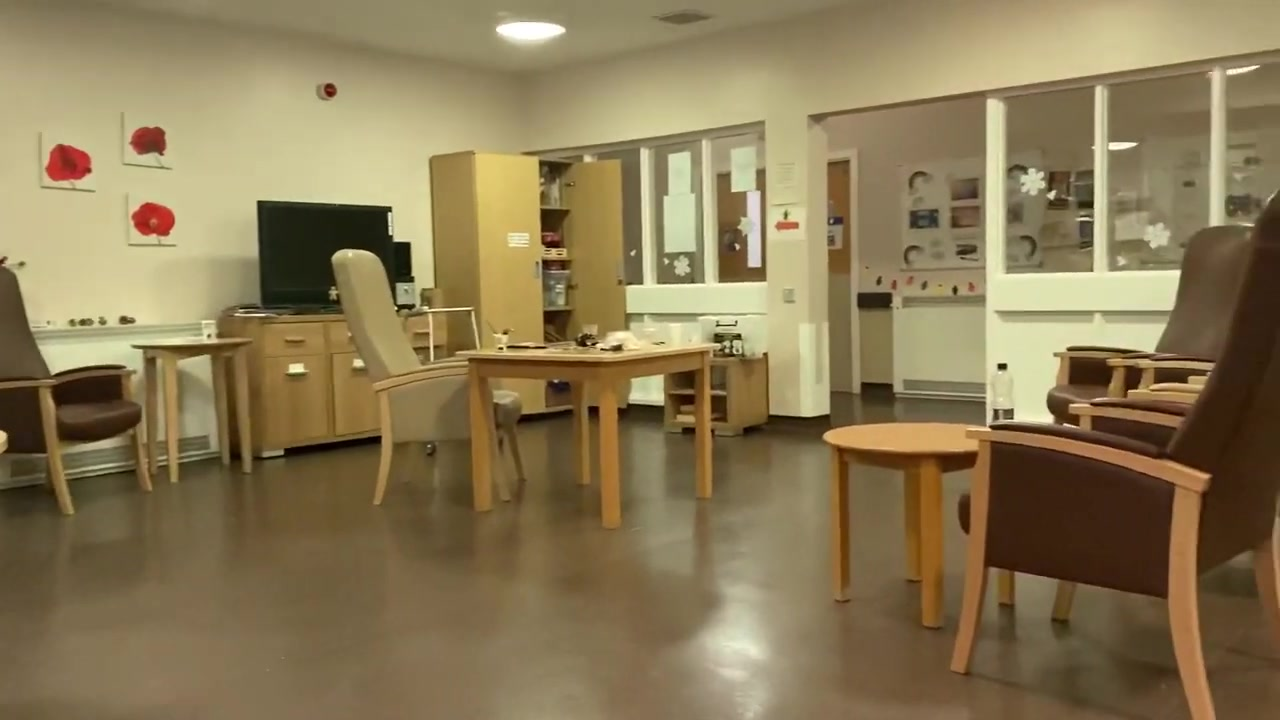TV: (254, 199, 398, 309)
cabinet: (431, 151, 622, 408)
chair: (946, 179, 1280, 715), (331, 249, 528, 504), (1045, 221, 1252, 425), (1, 264, 154, 515)
counter: (226, 312, 443, 452)
handle: (285, 370, 312, 377), (284, 336, 306, 344), (350, 364, 368, 372), (412, 329, 431, 336), (534, 261, 541, 279)
table: (473, 343, 718, 531), (822, 418, 1010, 630), (134, 336, 251, 480)
